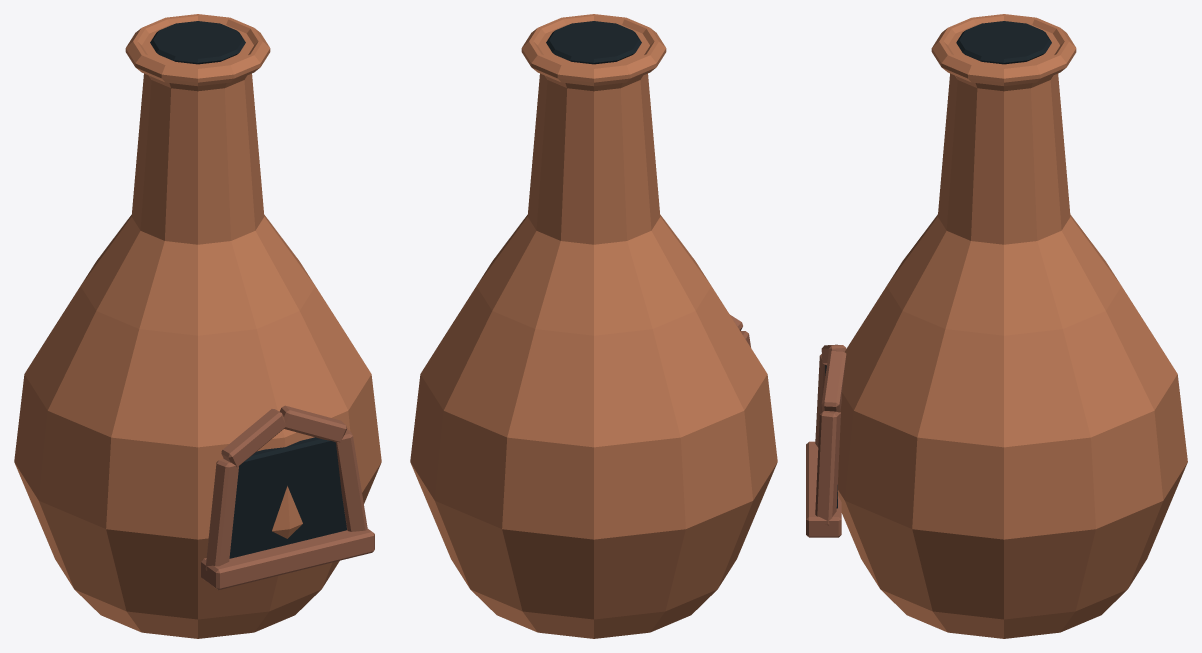
File: b11_terracotta_chiminea.glb
3 renders of one model, left to right at view 1: azimuth 30°, elevation 25°; view 2: azimuth 150°, elevation 25°; view 3: azimuth 270°, elevation 25°, orthographic.
Parts seen in each view (by area): view 1: b11_terracotta_chiminea; view 2: b11_terracotta_chiminea; view 3: b11_terracotta_chiminea.
Part boxes in pixels (<box>): b11_terracotta_chiminea: <box>14,14,381,638</box>; b11_terracotta_chiminea: <box>410,14,777,638</box>; b11_terracotta_chiminea: <box>806,14,1187,638</box>.
Size of the model in its own units: 0.72 by 1.19 by 0.748.
